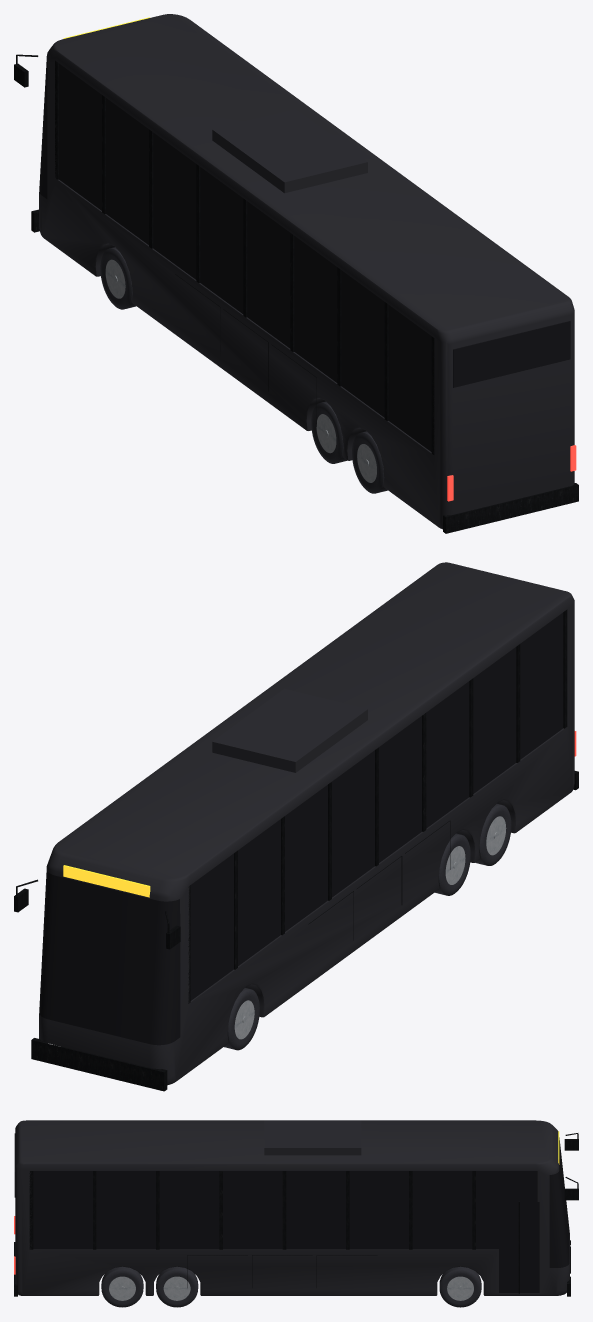
Rendered from bus_tour_black.gltf.
The picture shows the model from 3 angles, top to bottom: view 1: azimuth 30°, elevation 25°; view 2: azimuth 150°, elevation 25°; view 3: azimuth 270°, elevation 25°; orthographic projection. The views are drawn at different scales.
Parts seen in each view (by area): view 1: bus_tour_black; view 2: bus_tour_black; view 3: bus_tour_black.
Boxes of the visible parts, <box> form: bus_tour_black: <box>14,14,578,533</box>; bus_tour_black: <box>14,562,578,1091</box>; bus_tour_black: <box>14,1120,578,1307</box>.
Bounding box in the file's own units: 2.99 × 4.15 × 13.96.
Materials: 10 (4 with a texture image).
